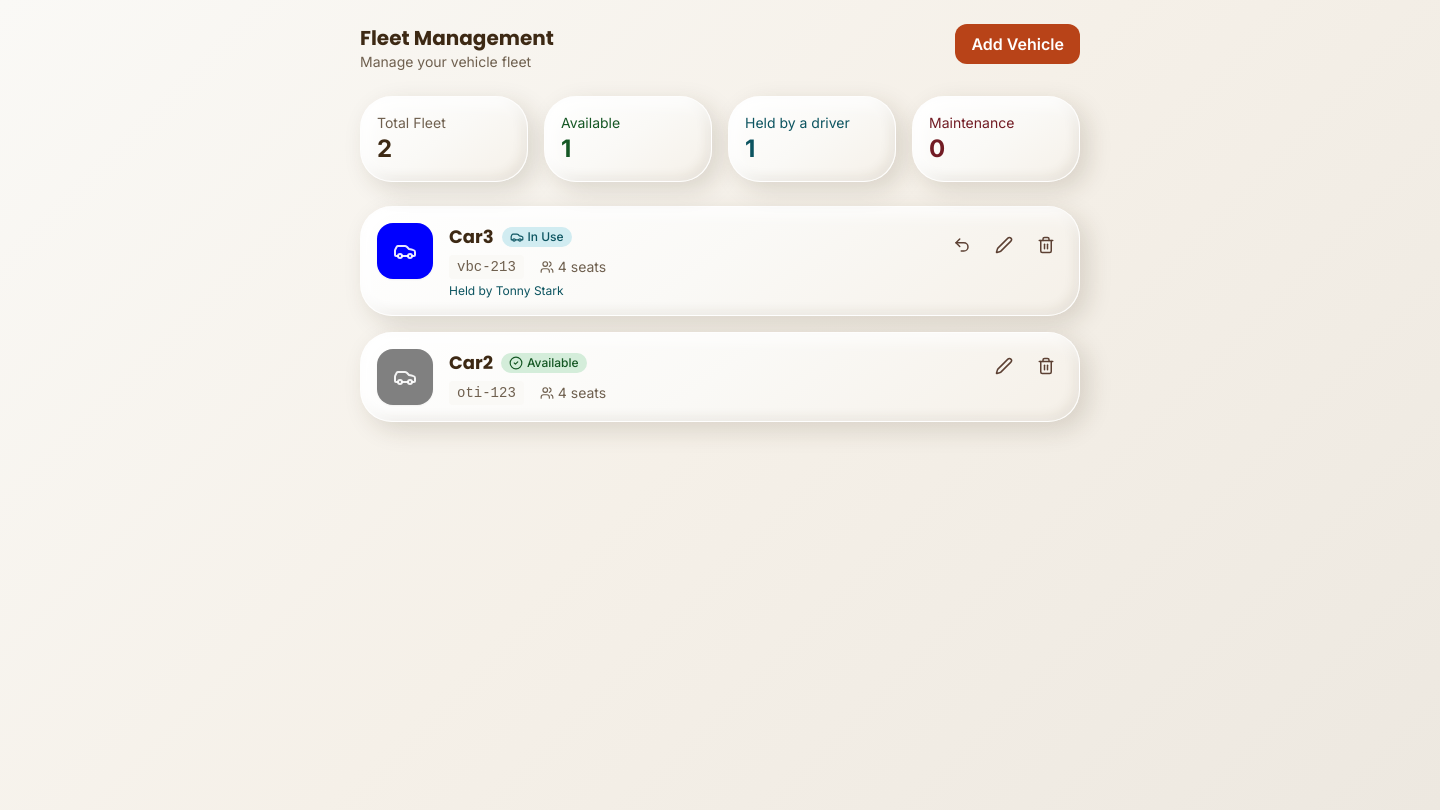
Test: FleetManagement — Release asks first, then actually releases › asks for confirmation before doing anything
Click the button named "release car3 back to the fleet" at coordinates (962, 245), box [945,223,979,267]
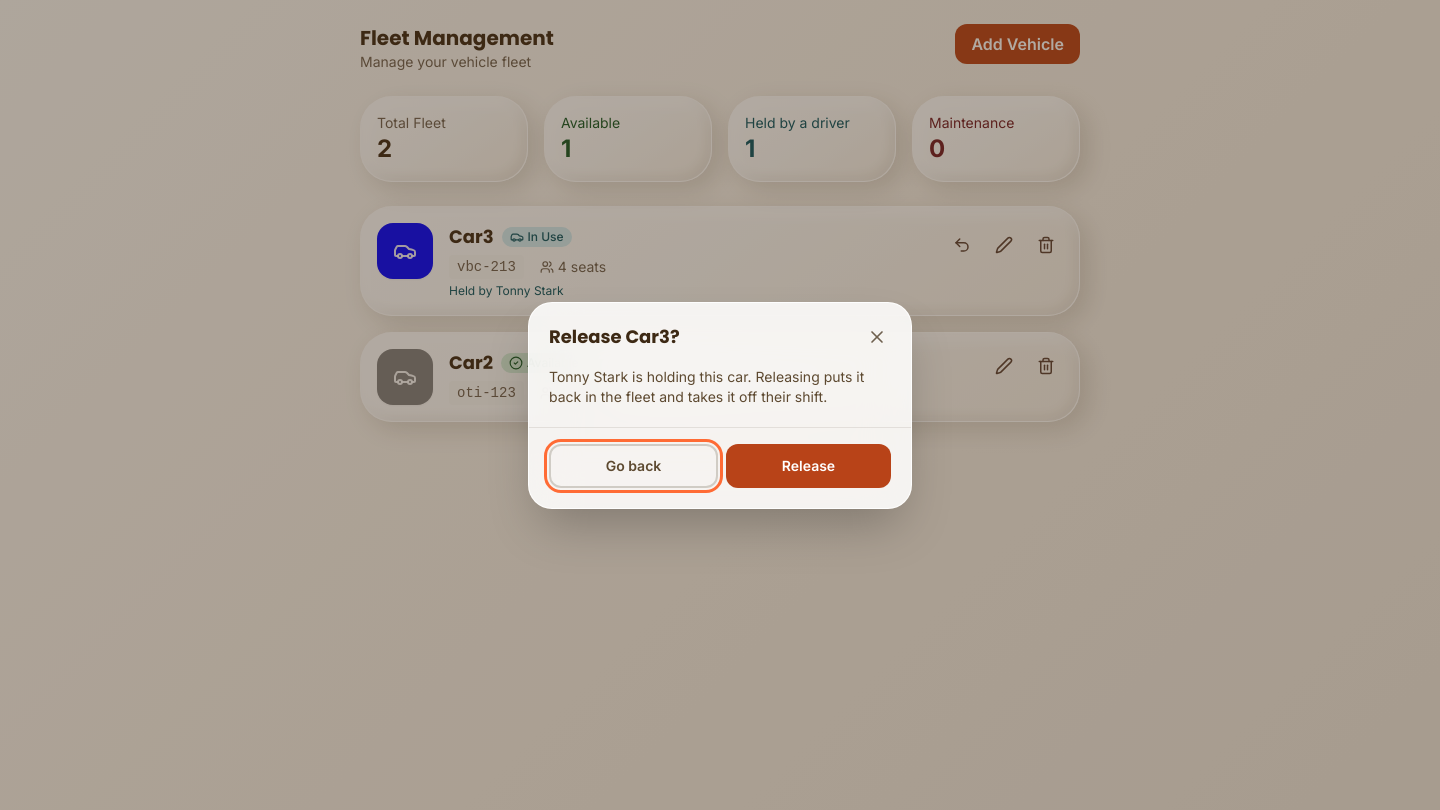
Expected: the heading "Release Car3?" is shown, [549,322,680,350]
